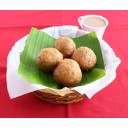bonda: (53, 60, 84, 86), (55, 37, 75, 55)
